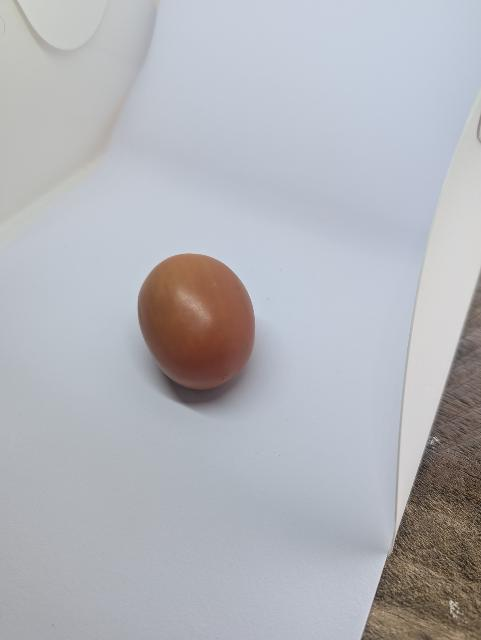turning: (130, 245, 262, 398)
